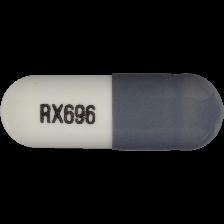61919-796: (0, 0, 224, 224)
